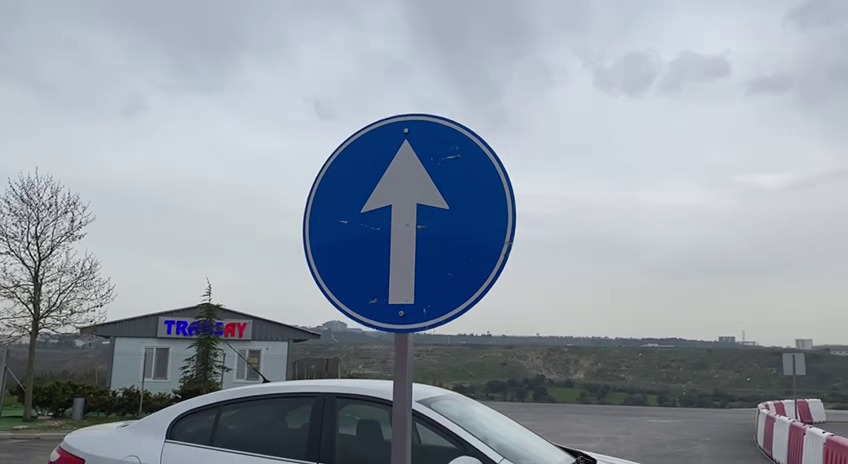forward: (299, 111, 522, 336)
